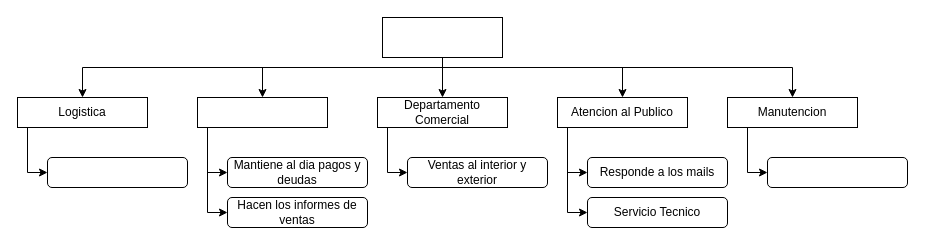
This 925x245 diagram has some shape labels left out. The box of each missing label's shape, as (x1, y1, x2, y2) in pixels:
Agencia de Contables: (196, 96, 328, 128)
Despachan: (46, 156, 188, 188)
Mantienen y actualizan la pagina web: (766, 156, 908, 188)
Pilotos del Plata: (382, 16, 502, 58)
